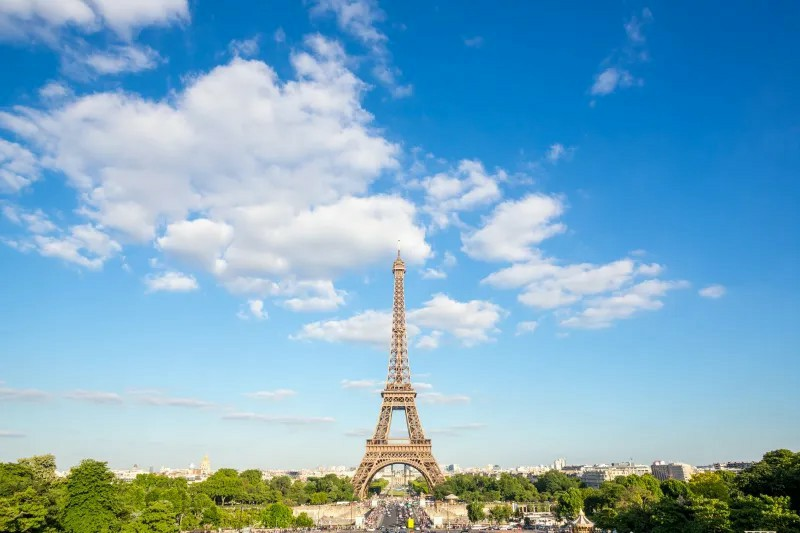Eiffel: (350, 240, 446, 501)
